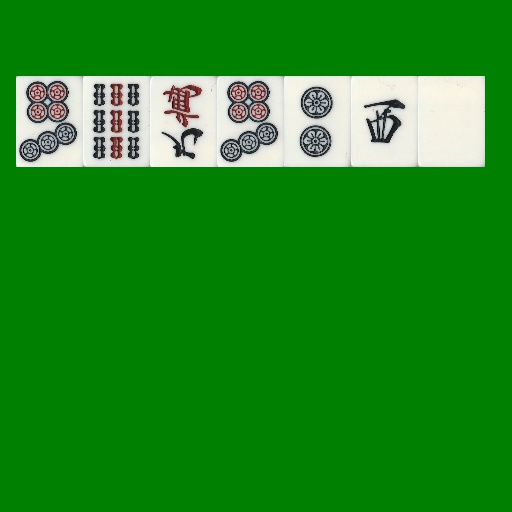2p: (284, 76, 351, 167)
7p: (16, 76, 83, 167), (217, 76, 284, 167)
9m: (150, 76, 217, 167)
9s: (83, 76, 150, 167)
west: (351, 76, 418, 167)
white: (418, 76, 485, 167)
